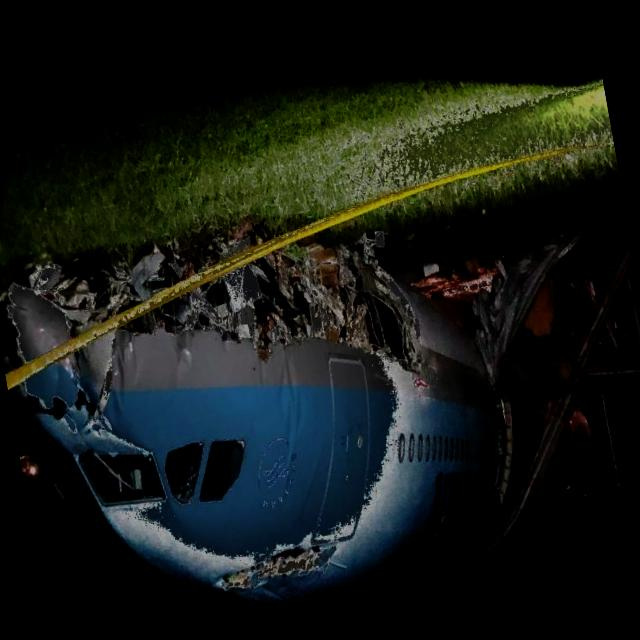crack: (203, 529, 353, 601)
